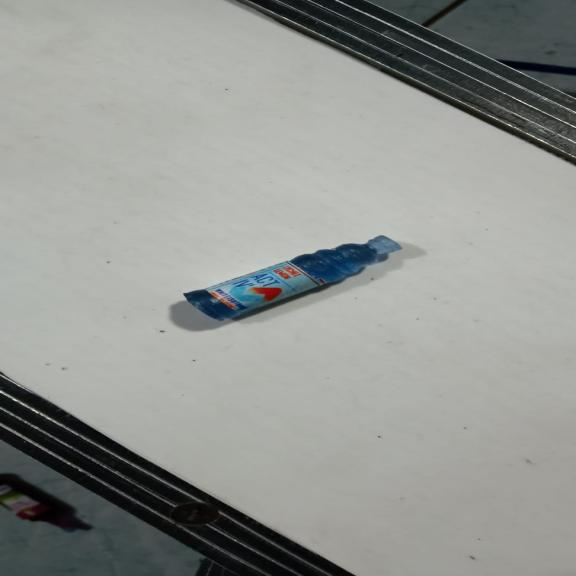Plastik: (183, 235, 402, 321)
